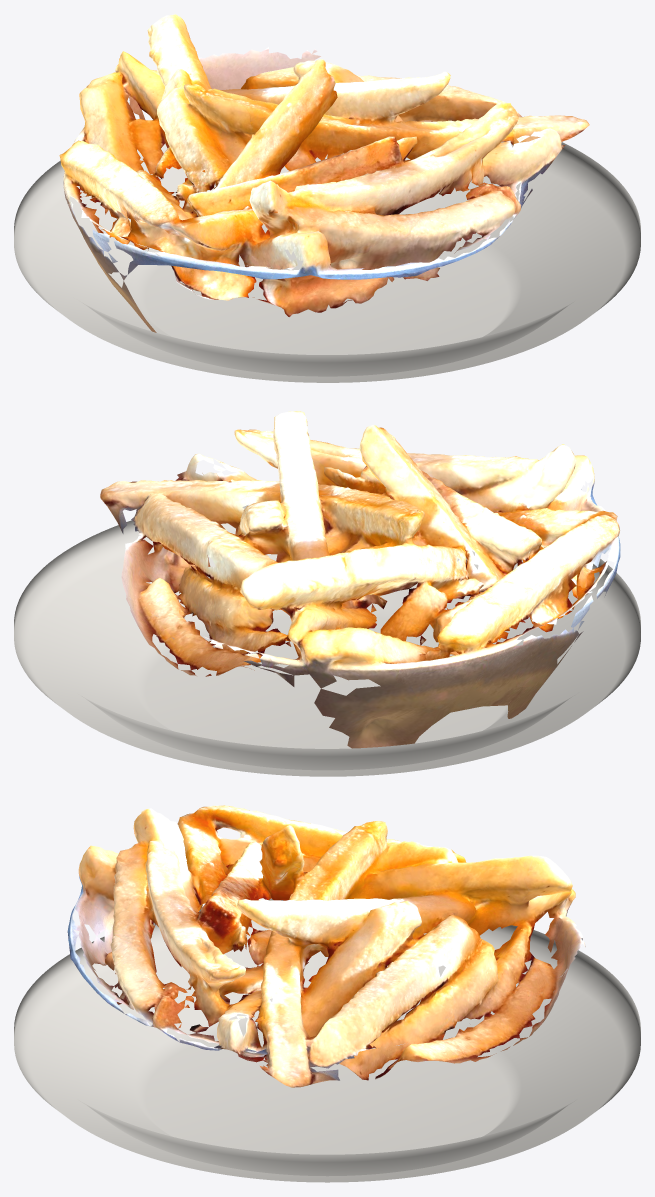
Rendered from fries-bowl.glb.
3 renders of one model, top to bottom at view 1: azimuth 30°, elevation 25°; view 2: azimuth 150°, elevation 25°; view 3: azimuth 270°, elevation 25°, orthographic.
Visible parts, largest first — view 1: g0, plate; view 2: g0, plate; view 3: g0, plate.
Part boxes in pixels (x1=…): g0: x1=59, y1=14, x2=589, y2=332; plate: x1=14, y1=120, x2=640, y2=382; g0: x1=100, y1=411, x2=620, y2=748; plate: x1=14, y1=505, x2=640, y2=776; g0: x1=67, y1=805, x2=585, y2=1087; plate: x1=14, y1=899, x2=640, y2=1182.
Size of the model in its own units: 0.168 by 0.0766 by 0.168.
Materials: 2 (1 with a texture image).
